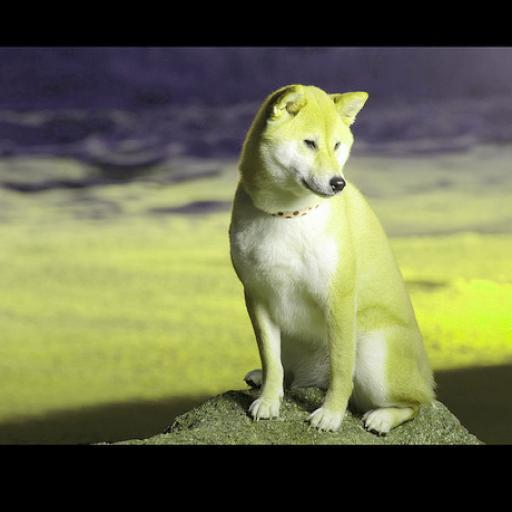dog_face: (265, 86, 366, 206)
